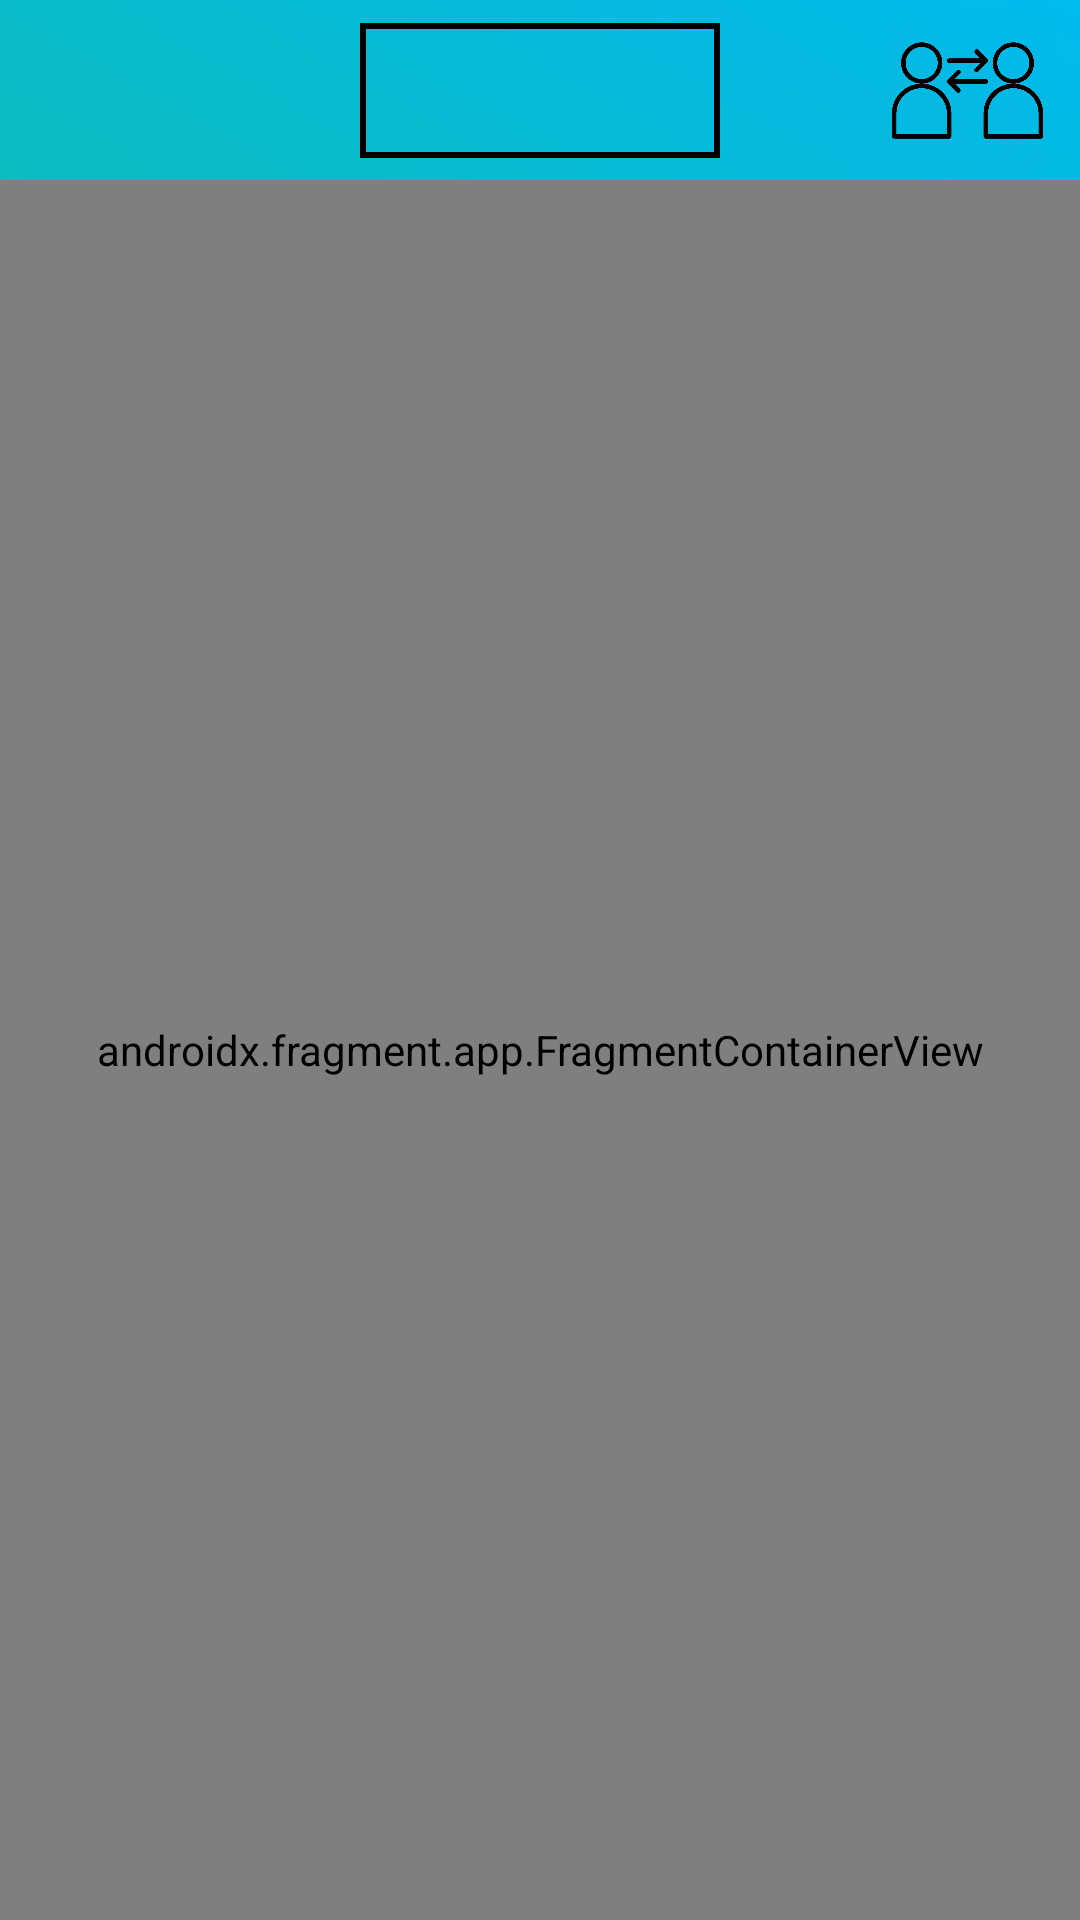

Locate icon controls on the screen. Image size 1080px x 1920px, boxes as (x1, y1, x2, y2).
substitute: (892, 42, 1043, 139)
